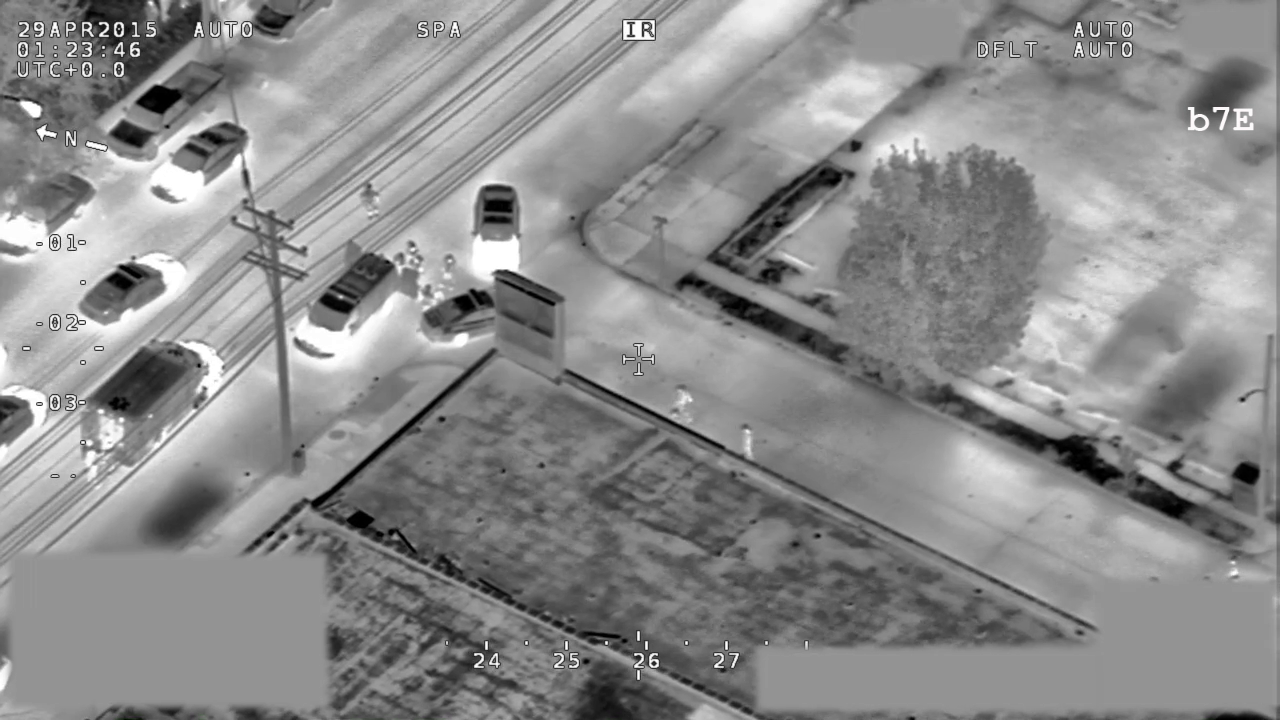vehicle: (78, 327, 231, 473), (291, 239, 420, 362), (107, 59, 231, 164), (1, 169, 99, 262), (77, 252, 190, 330), (150, 118, 251, 205), (469, 182, 524, 283), (421, 284, 494, 347), (1, 374, 49, 461), (249, 1, 331, 44)
